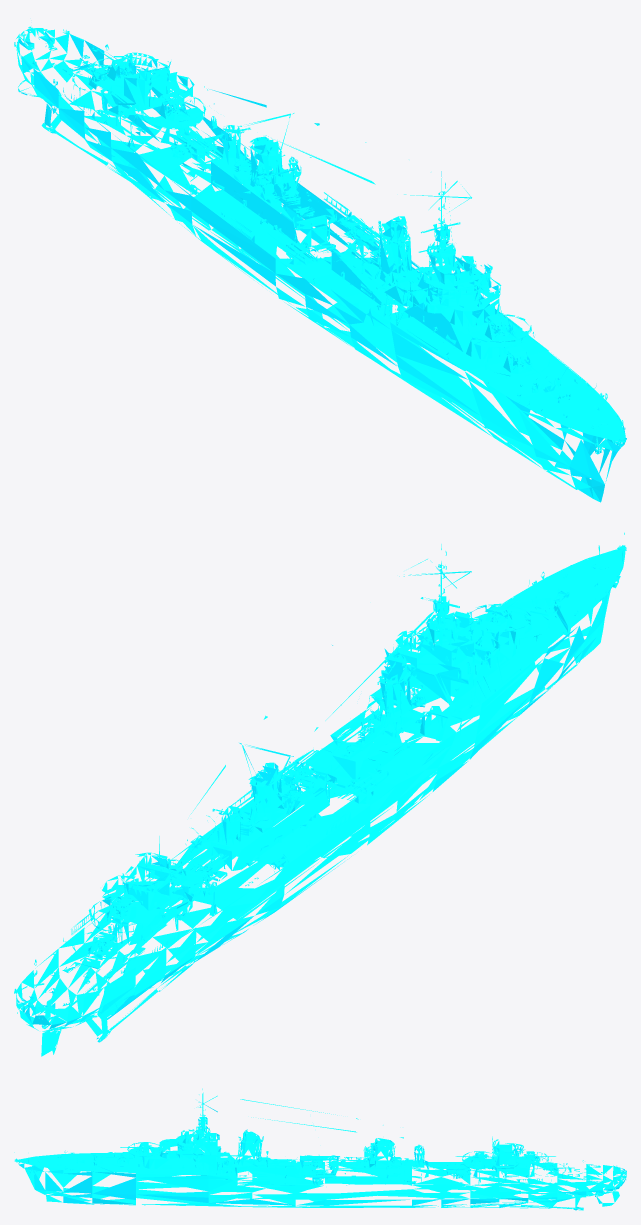
The model's file is PFSD808.glb.
The picture shows the model from 3 angles, top to bottom: view 1: azimuth 30°, elevation 25°; view 2: azimuth 150°, elevation 25°; view 3: azimuth 270°, elevation 25°; orthographic projection. The views are drawn at different scales.
Parts seen in each view (by area): view 1: hull_mid, main_battery, torpedo, superstructure; view 2: hull_mid, main_battery, torpedo, superstructure; view 3: hull_mid, main_battery, torpedo, superstructure.
Boxes of the visible parts, x1,y1,x2,y2 form: hull_mid: [14, 26, 626, 502]; main_battery: [79, 49, 540, 375]; torpedo: [176, 127, 386, 264]; superstructure: [212, 125, 460, 258]; hull_mid: [14, 532, 626, 1056]; main_battery: [80, 597, 540, 960]; torpedo: [176, 749, 388, 888]; superstructure: [212, 596, 459, 844]; hull_mid: [14, 1088, 626, 1210]; main_battery: [100, 1142, 574, 1175]; torpedo: [295, 1155, 469, 1180]; superstructure: [195, 1114, 424, 1165].
Size of the model in its own units: 0.8313 by 1.9 by 8.82.
